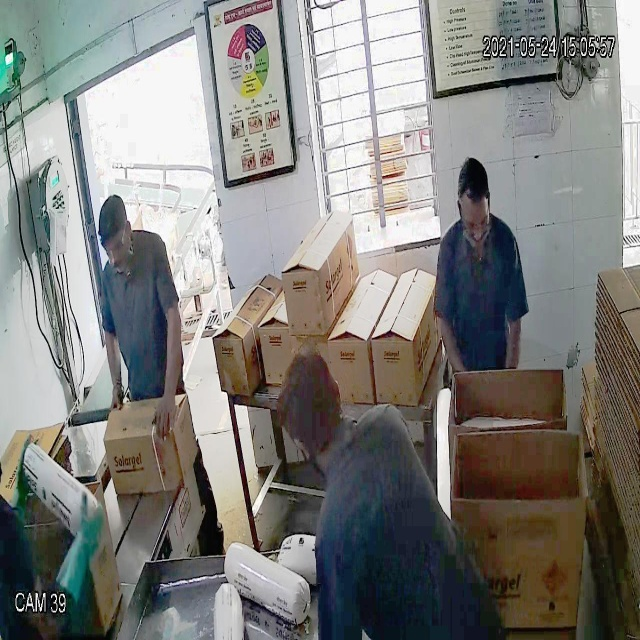Gafas: (456, 196, 493, 239), (100, 226, 131, 263)
